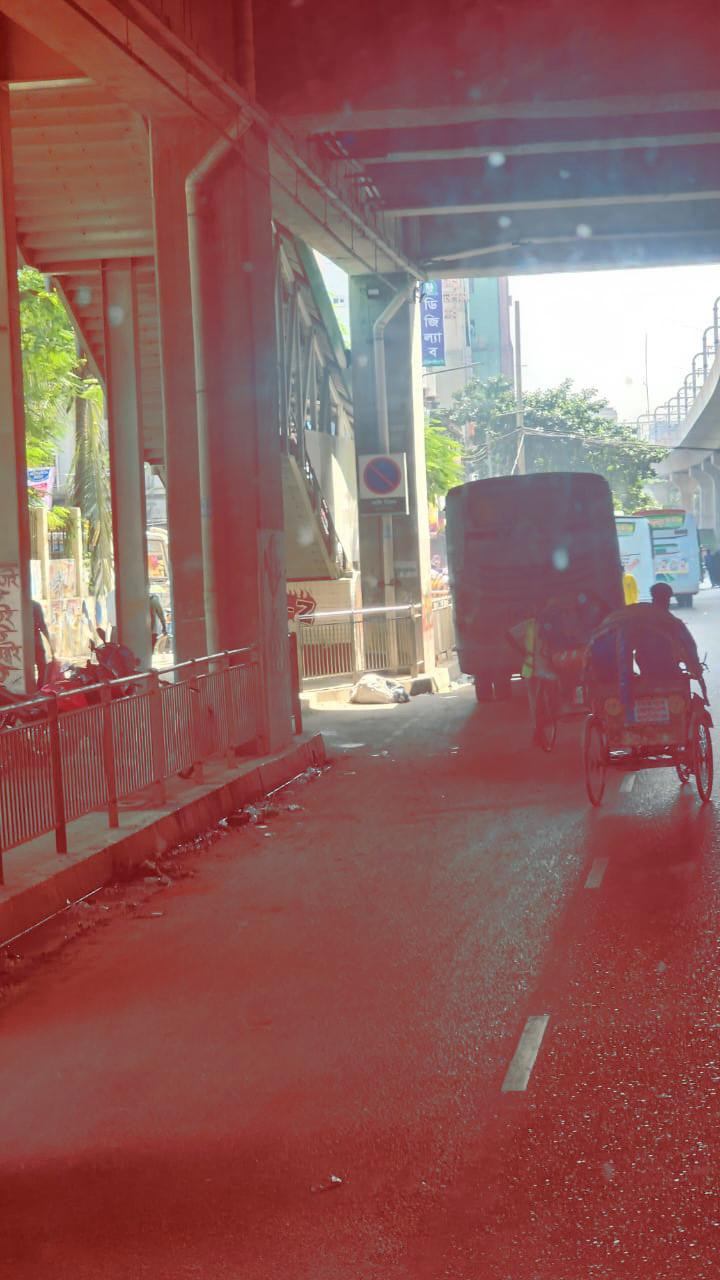No Parking: (358, 453, 407, 509)
